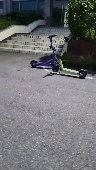beam: (28, 33, 60, 69)
gcooter: (56, 35, 88, 78)
